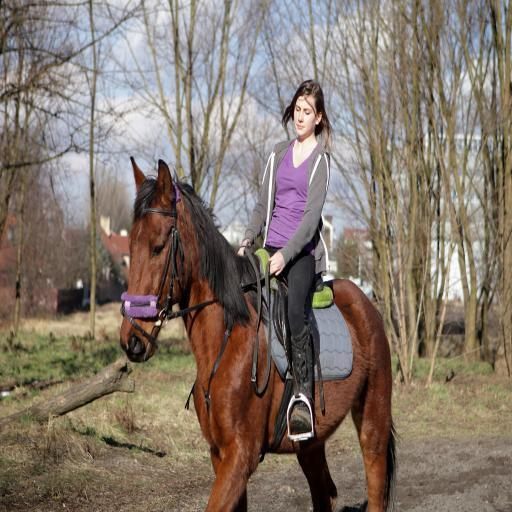horse: (118, 154, 402, 512)
